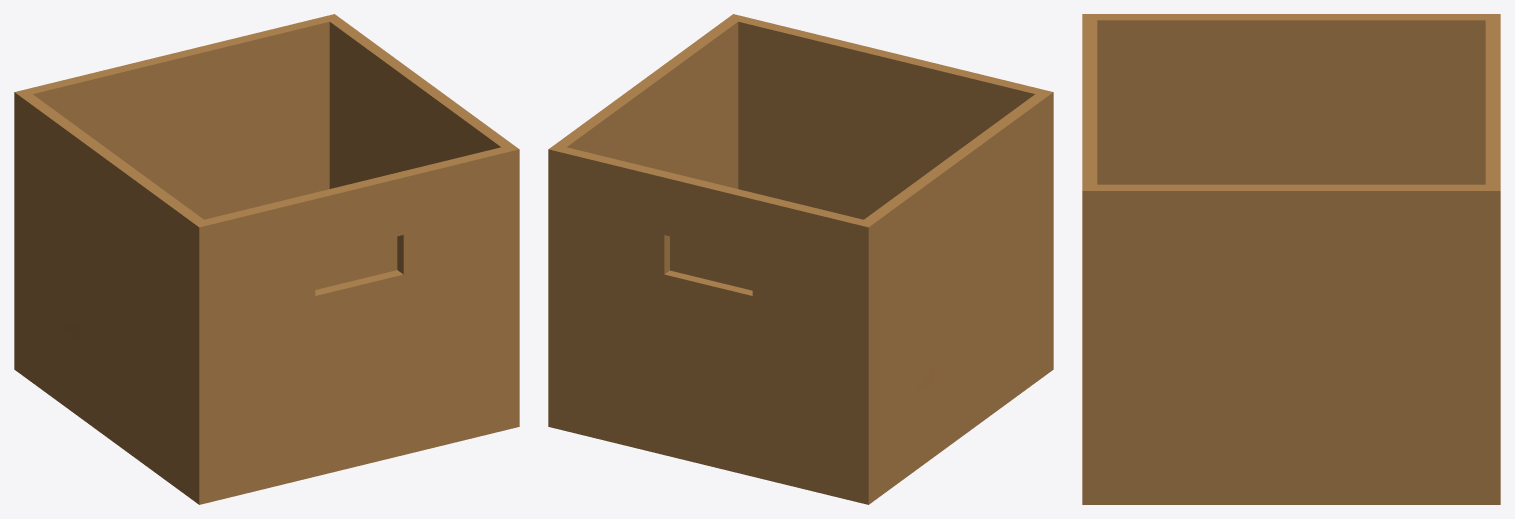
Rendered from 03_prop_box2.FBX.
3 views of the same model, side by side, from view 1: azimuth 30°, elevation 25°; view 2: azimuth 150°, elevation 25°; view 3: azimuth 270°, elevation 25° (orthographic). The views are drawn at different scales.
Parts seen in each view (by area): view 1: prop_box2; view 2: prop_box2; view 3: prop_box2.
Boxes of the visible parts, x1,y1,x2,y2 form: prop_box2: [14, 14, 519, 504]; prop_box2: [548, 14, 1053, 504]; prop_box2: [1082, 14, 1500, 504].
Bounding box in the file's own units: 37.93 × 31.41 × 37.93.
